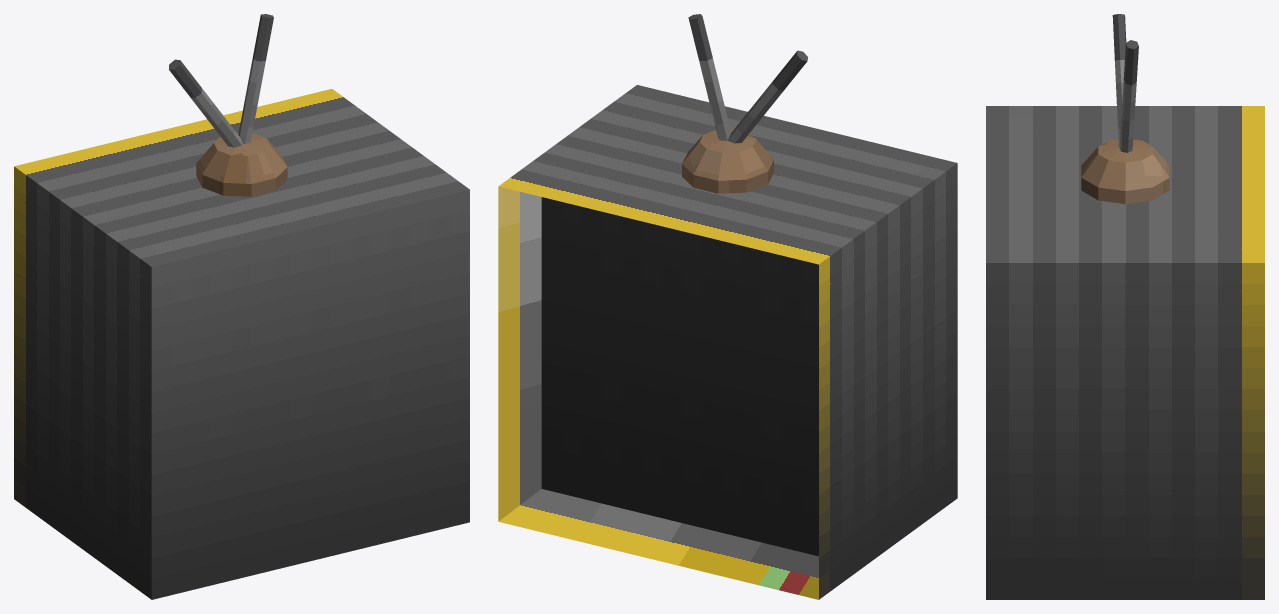
Rendered from monitor.gltf.
3 views of the same model, side by side, from view 1: azimuth 30°, elevation 25°; view 2: azimuth 150°, elevation 25°; view 3: azimuth 270°, elevation 25° (orthographic).
Visible parts, largest first — view 1: cuboid, sphere, cylinder (×2); view 2: cuboid, sphere, cylinder (×2); view 3: cuboid, sphere, cylinder (×2).
Part boxes in pixels (x1,y1,x2,y2): cuboid: (14,89,469,599); sphere: (196,132,287,196); cylinder (×2): (169,14,273,147); cuboid: (498,85,957,599); sphere: (682,129,773,193); cylinder (×2): (688,14,807,143); cuboid: (986,106,1264,599); sphere: (1081,139,1169,203); cylinder (×2): (1112,14,1138,152).
Size of the model in its own units: 1 by 1.46 by 0.75.
1 material, 1 textured.
